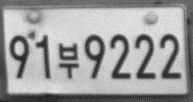1: (34, 34, 51, 81)
2: (109, 33, 131, 80), (134, 33, 156, 80), (159, 33, 180, 79)
9: (84, 33, 106, 80), (8, 35, 30, 80)
부: (56, 42, 81, 81)
